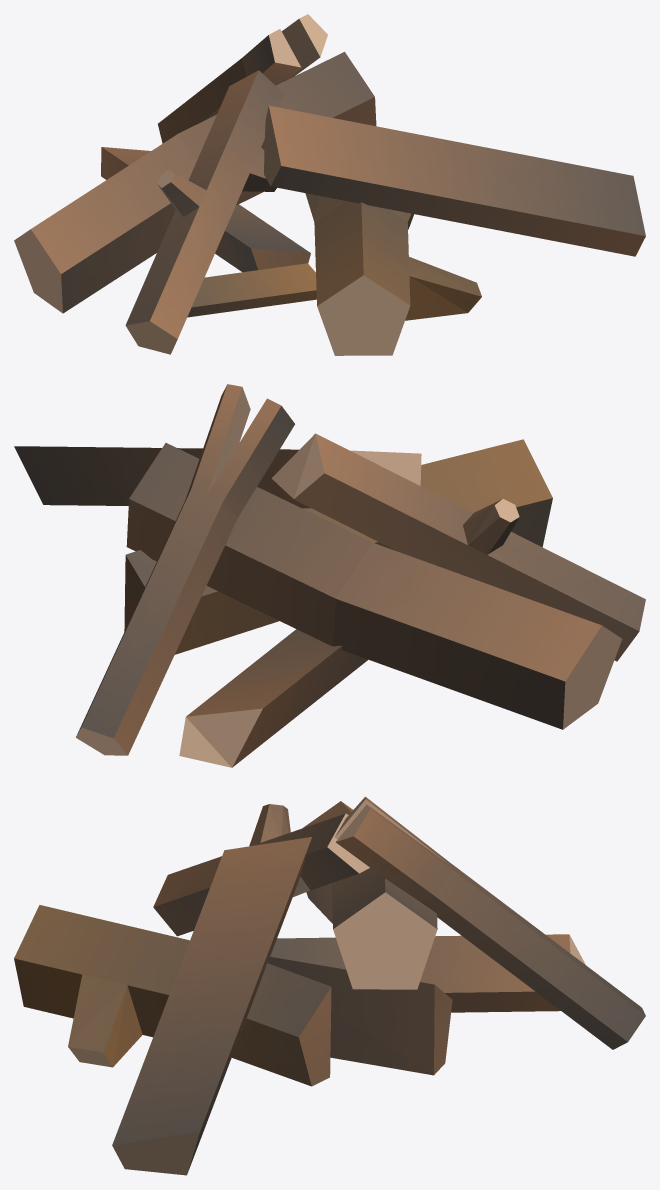
The model's file is Fireplace_Burn_m_02.fbx.
3 views of the same model, one above another, from view 1: azimuth 30°, elevation 25°; view 2: azimuth 150°, elevation 25°; view 3: azimuth 270°, elevation 25° (orthographic). The views are drawn at different scales.
Parts seen in each view (by area): view 1: Fireplace_Burn_m_02; view 2: Fireplace_Burn_m_02; view 3: Fireplace_Burn_m_02.
Boxes of the visible parts, <box> form: Fireplace_Burn_m_02: <box>14,14,645,355</box>; Fireplace_Burn_m_02: <box>14,384,645,767</box>; Fireplace_Burn_m_02: <box>14,796,645,1175</box>.
Size of the model in its own units: 88.13 by 34.77 by 79.86.
